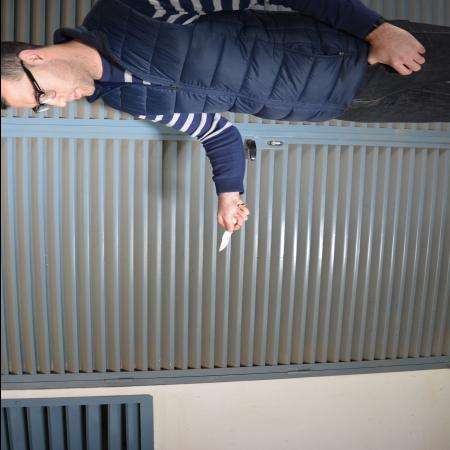long weapon: (216, 202, 248, 254)
